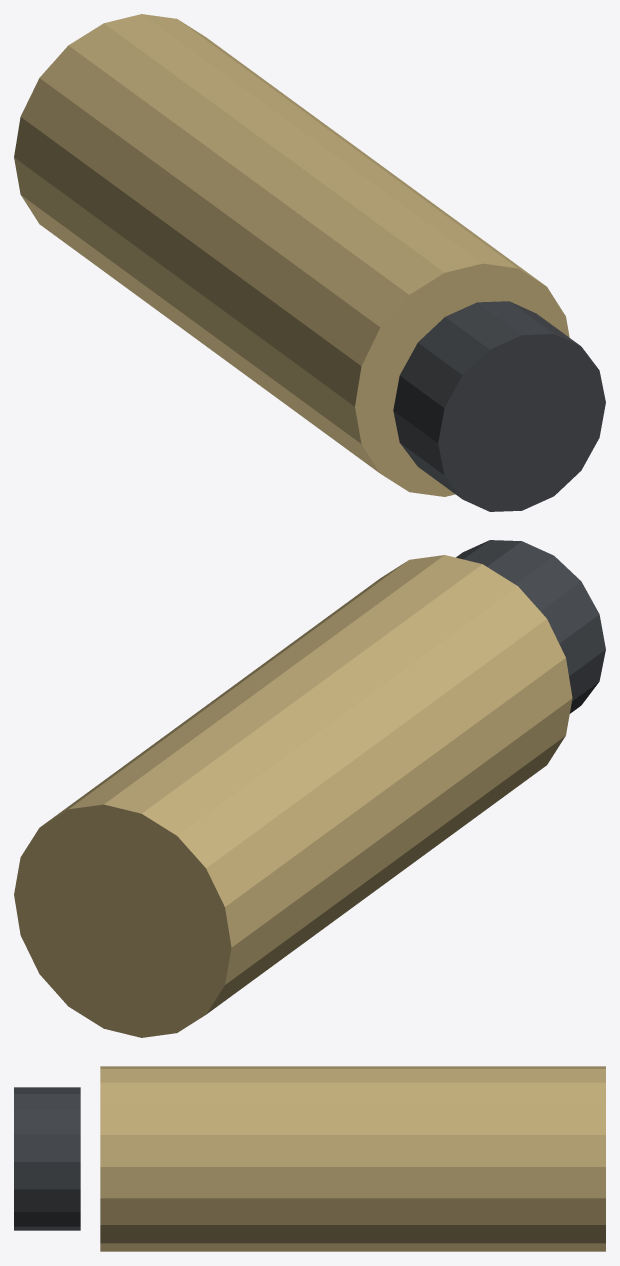
3 views of the same model, one above another, from view 1: azimuth 30°, elevation 25°; view 2: azimuth 150°, elevation 25°; view 3: azimuth 270°, elevation 25° (orthographic). The views are drawn at different scales.
Visible parts, largest first — view 1: geometry_0; view 2: geometry_0; view 3: geometry_0.
Boxes of the visible parts, x1,y1,x2,y2 form: geometry_0: (14, 14, 605, 511); geometry_0: (14, 540, 605, 1037); geometry_0: (14, 1066, 605, 1251).
Size of the model in its own units: 0.07 by 0.0689 by 0.2225.
